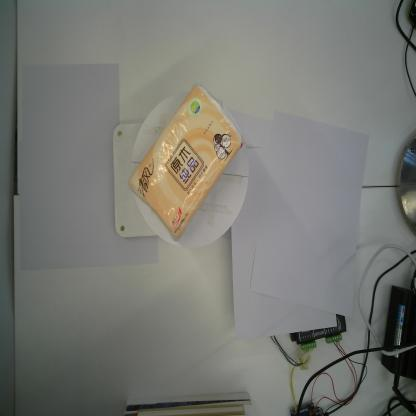Tissue: (127, 81, 244, 243)
